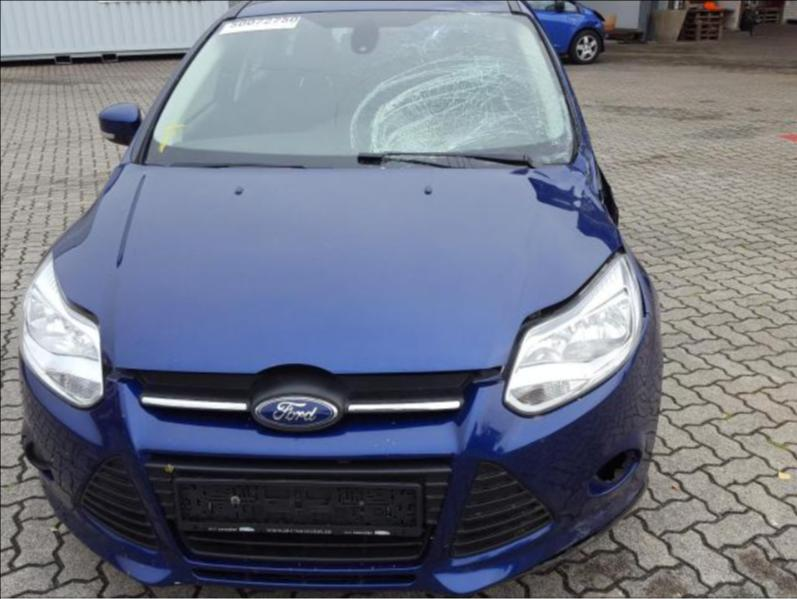Broken part: (60, 292, 502, 401), (500, 247, 619, 379), (593, 154, 621, 230)
Cracked: (138, 10, 576, 170)
Dent: (513, 163, 621, 250)
Missing part: (179, 483, 420, 531), (594, 451, 642, 493), (580, 113, 622, 148)
Scratch: (563, 521, 595, 547)
